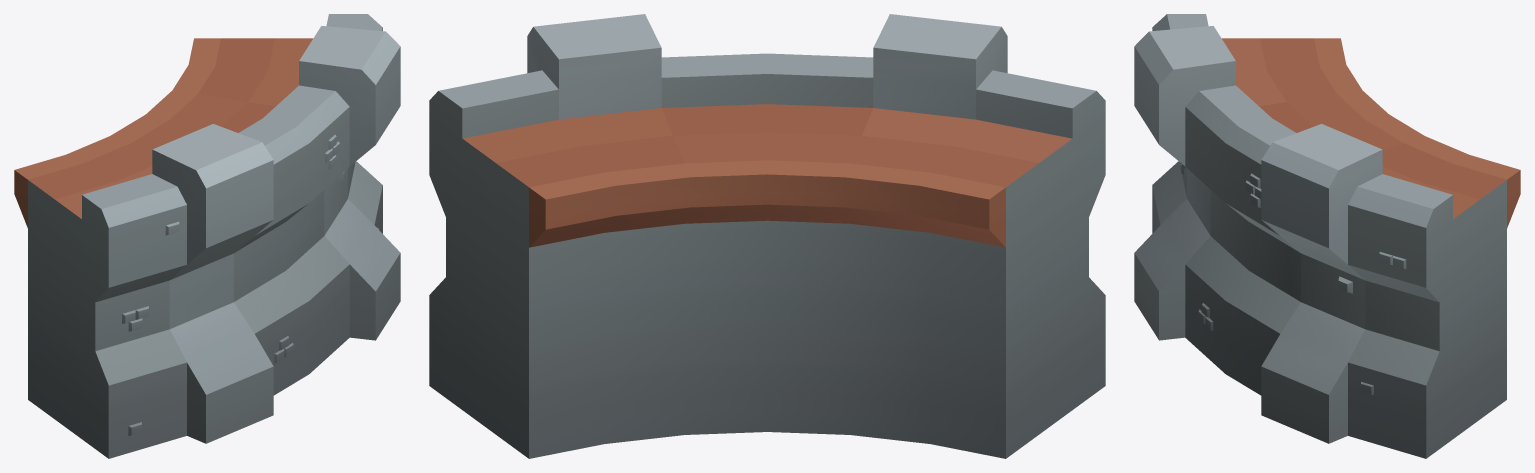
The model's file is kay-muralha-canto.gltf.
The picture shows the model from 3 angles, left to right: view 1: azimuth 30°, elevation 25°; view 2: azimuth 150°, elevation 25°; view 3: azimuth 270°, elevation 25°; orthographic projection. The views are drawn at different scales.
Visible parts, largest first — view 1: wall_corner_A_outside; view 2: wall_corner_A_outside; view 3: wall_corner_A_outside.
Boxes of the visible parts, x1,y1,x2,y2 form: wall_corner_A_outside: (14, 14, 400, 458); wall_corner_A_outside: (429, 14, 1105, 458); wall_corner_A_outside: (1134, 14, 1520, 458).
Size of the model in its own units: 8.8 by 5.5 by 7.16.
Materials: 1 (1 with a texture image).
